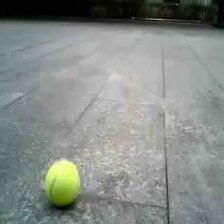tennis: (46, 160, 79, 203)
